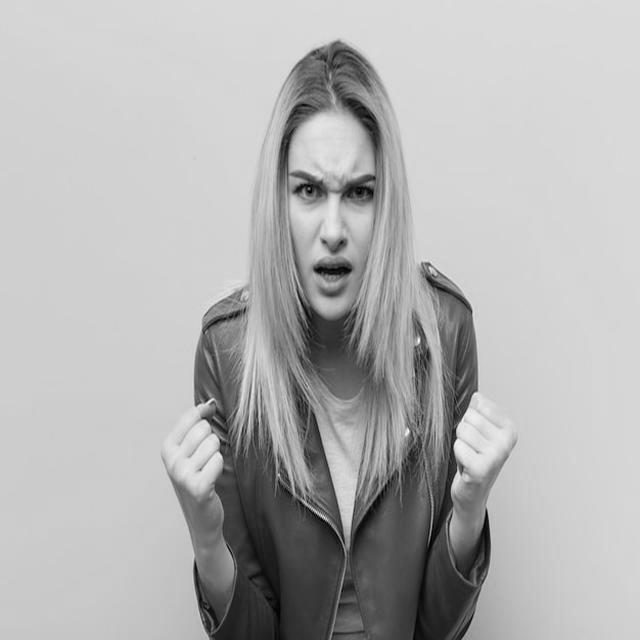Angry: (284, 110, 381, 321)
